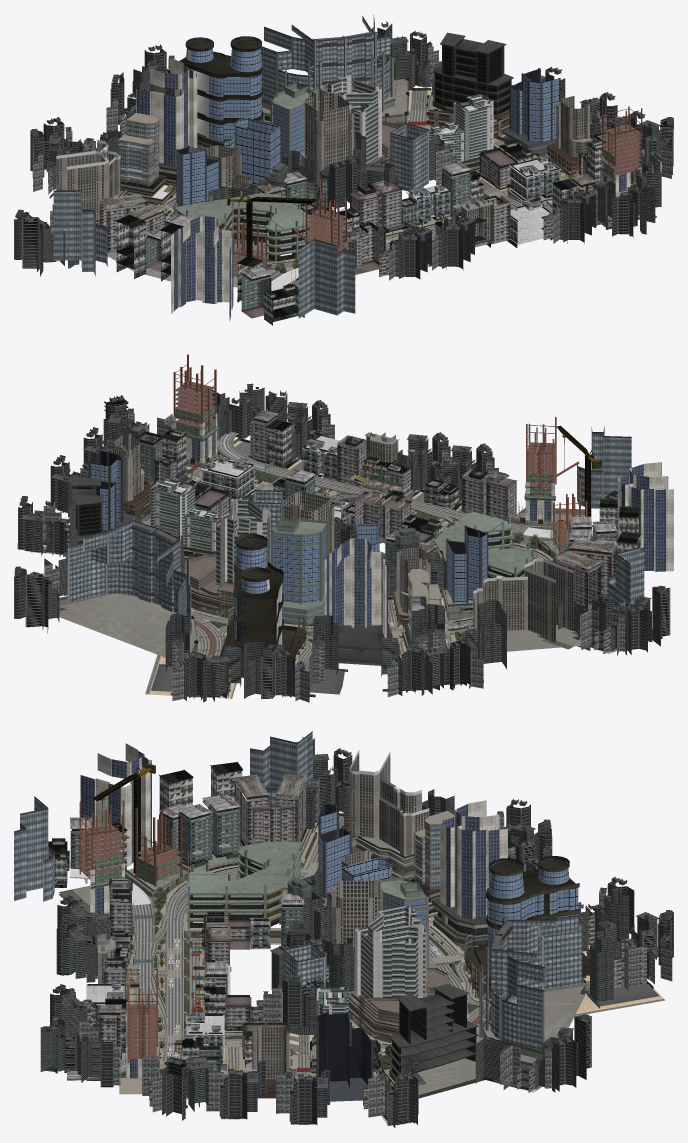
The model's file is centro_city.glb.
3 views of the same model, one above another, from view 1: azimuth 30°, elevation 25°; view 2: azimuth 150°, elevation 25°; view 3: azimuth 270°, elevation 25° (orthographic). The views are drawn at different scales.
Visible parts, largest first — view 1: Object_14, Object_1508, Object_4619, Object_2618, Object_1688, Object_1499, Object_1502, Object_5009, Object_1424, Object_1412, Object_4994, Object_1994 (+16 smaller); view 2: Object_14, Object_1508, Object_1688, Object_2618, Object_1499, Object_4619, Object_1406, Object_5009, Object_1502, Object_1412, Object_6284, Object_1994 (+24 smaller); view 3: Object_14, Object_1508, Object_1688, Object_2618, Object_1499, Object_1412, Object_5009, Object_4619, Object_1406, Object_8, Object_1502, Object_4994 (+27 smaller).
Part boxes in pixels (box(x1,y1,x2,y2)): Object_14: box(14, 21, 673, 280); Object_1508: box(53, 16, 429, 318); Object_4619: box(177, 39, 558, 213); Object_2618: box(56, 89, 592, 242); Object_1688: box(136, 58, 630, 321); Object_1499: box(99, 149, 597, 318); Object_1502: box(116, 139, 606, 321); Object_5009: box(320, 75, 493, 164); Object_1424: box(53, 15, 560, 254); Object_1412: box(173, 82, 311, 262); Object_4994: box(433, 32, 513, 114); Object_1994: box(297, 155, 561, 244); Object_14: box(14, 383, 670, 702); Object_1508: box(67, 427, 644, 638); Object_1688: box(172, 413, 673, 638); Object_2618: box(112, 432, 573, 642); Object_1499: box(144, 417, 616, 612); Object_4619: box(90, 450, 486, 646); Object_1406: box(59, 479, 586, 660); Object_5009: box(150, 478, 270, 585); Object_1502: box(160, 419, 640, 552); Object_1412: box(271, 506, 590, 650); Object_6284: box(220, 533, 580, 677); Object_1994: box(200, 436, 447, 524); Object_14: box(40, 736, 673, 1127); Object_1508: box(14, 733, 582, 1051); Object_1688: box(80, 743, 507, 1078); Object_2618: box(97, 753, 429, 1079); Object_1499: box(70, 779, 306, 1066); Object_1412: box(186, 835, 458, 977); Object_5009: box(316, 906, 426, 1014); Object_4619: box(317, 804, 578, 1077); Object_1406: box(59, 828, 586, 1094); Object_8: box(67, 847, 490, 1080); Object_1502: box(48, 761, 251, 1064); Object_4994: box(389, 983, 478, 1076).
Size of the model in its own units: 14.22 by 2.76 by 12.12.
99 materials, 98 textured.
